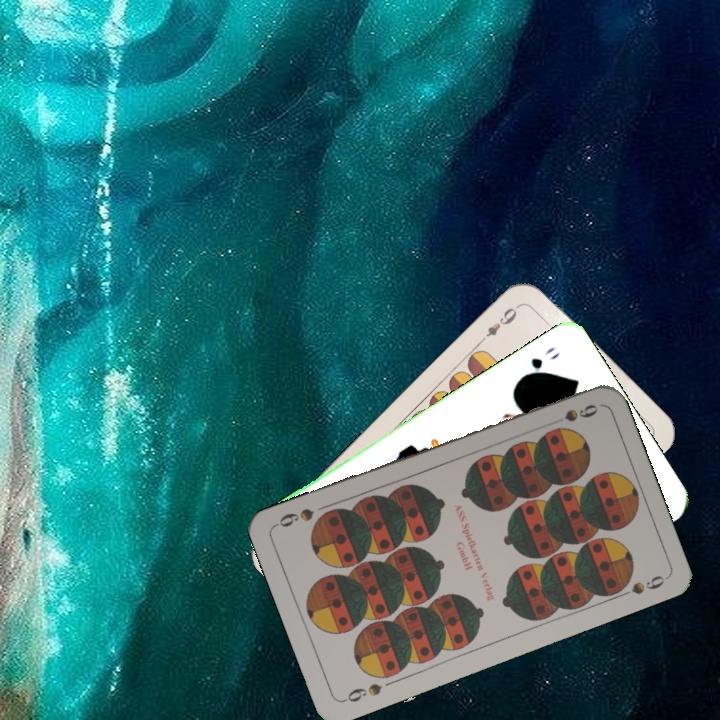E9: (482, 300, 522, 340)
GO: (516, 343, 563, 383)
S9: (544, 400, 601, 429), (339, 679, 385, 705)
